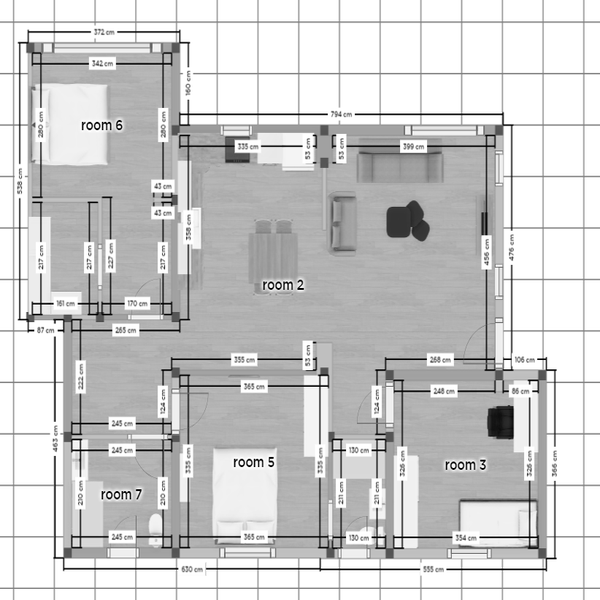door: (457, 316, 506, 369), (172, 394, 220, 439), (354, 383, 397, 432), (332, 514, 377, 559), (128, 275, 169, 322), (126, 432, 168, 476), (105, 518, 144, 561)
